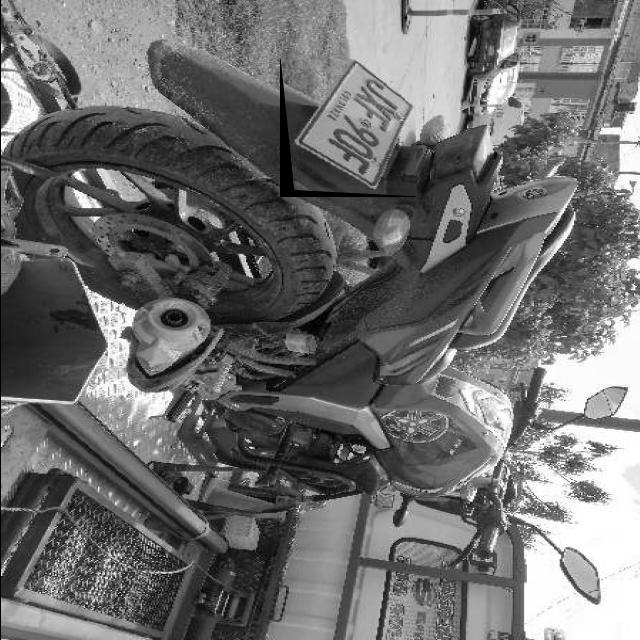plate: (286, 59, 415, 194)
